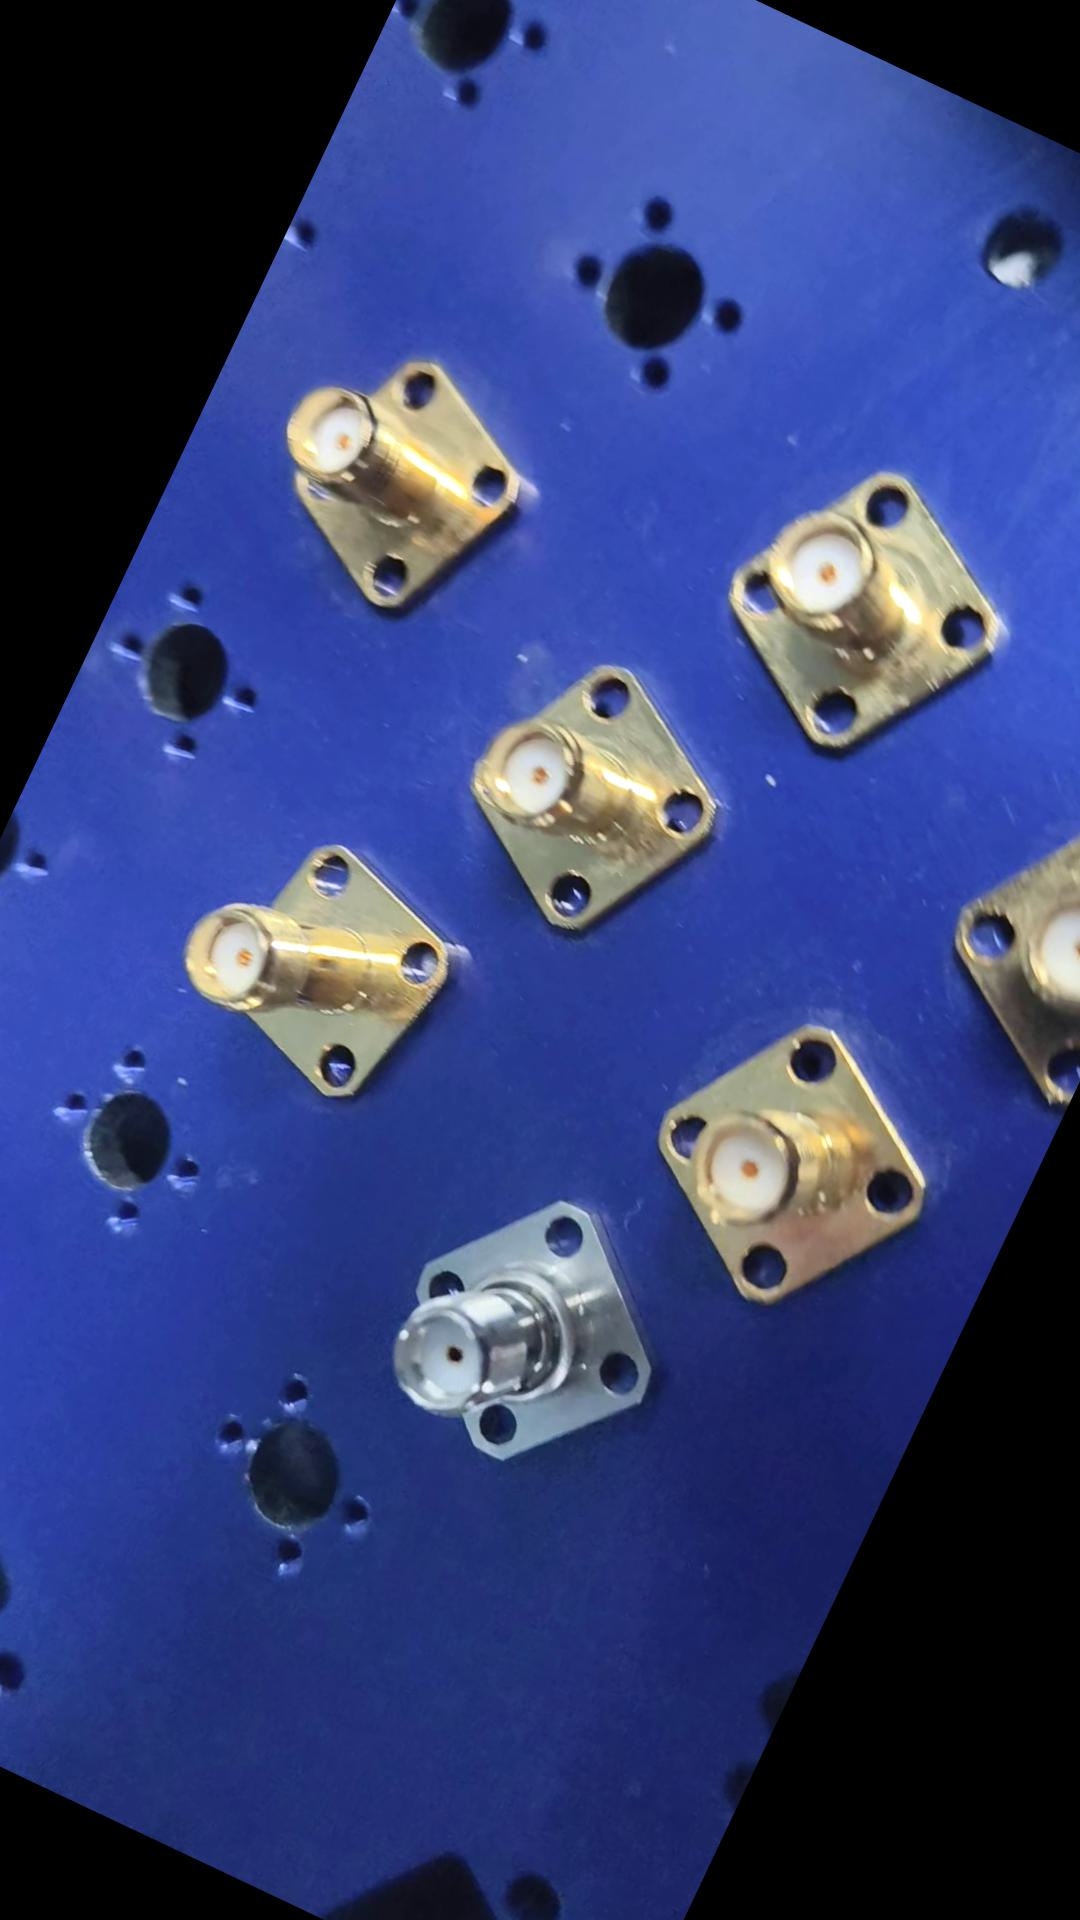SMA: (597, 963, 976, 1349), (344, 1137, 709, 1515), (680, 425, 1036, 796), (415, 618, 749, 971), (228, 316, 560, 654), (142, 800, 479, 1127)
